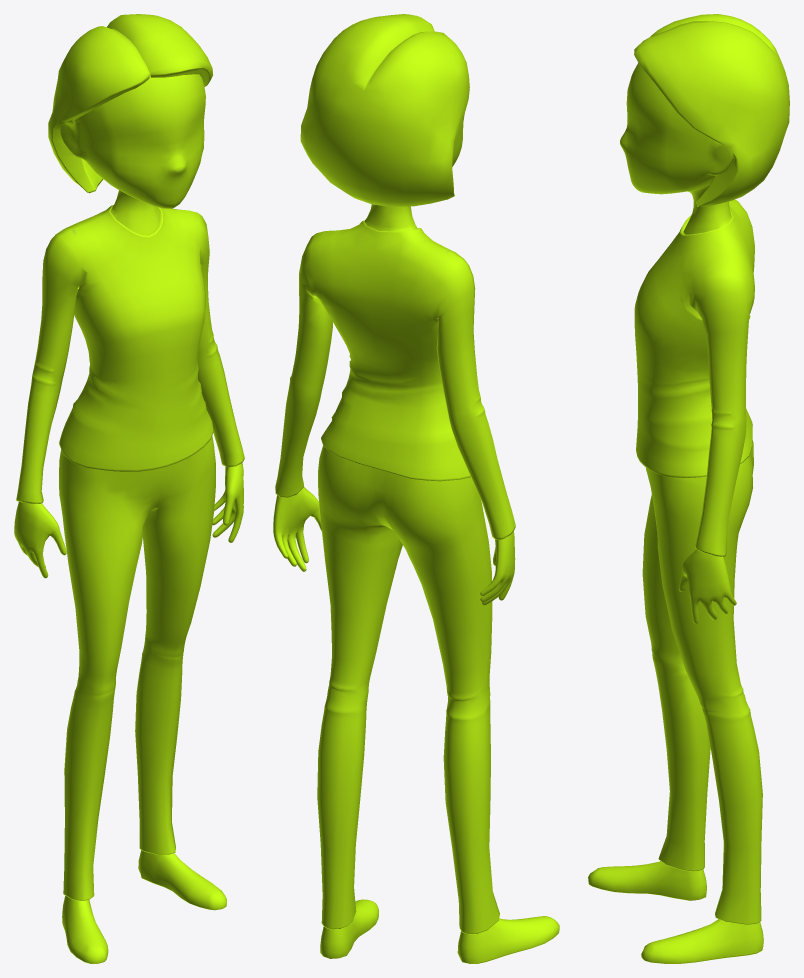
The model's file is girl-old.glb.
The picture shows the model from 3 angles, left to right: view 1: azimuth 30°, elevation 25°; view 2: azimuth 150°, elevation 25°; view 3: azimuth 270°, elevation 25°; orthographic projection. The views are drawn at different scales.
Visible parts, largest first — view 1: mesh_id38; view 2: mesh_id38; view 3: mesh_id38.
Boxes of the visible parts, <box> form: mesh_id38: <box>14,14,244,963</box>; mesh_id38: <box>273,14,559,963</box>; mesh_id38: <box>588,14,789,963</box>.
Bounding box in the file's own units: 0.1341 × 0.502 × 0.101.
1 material, 1 textured.
